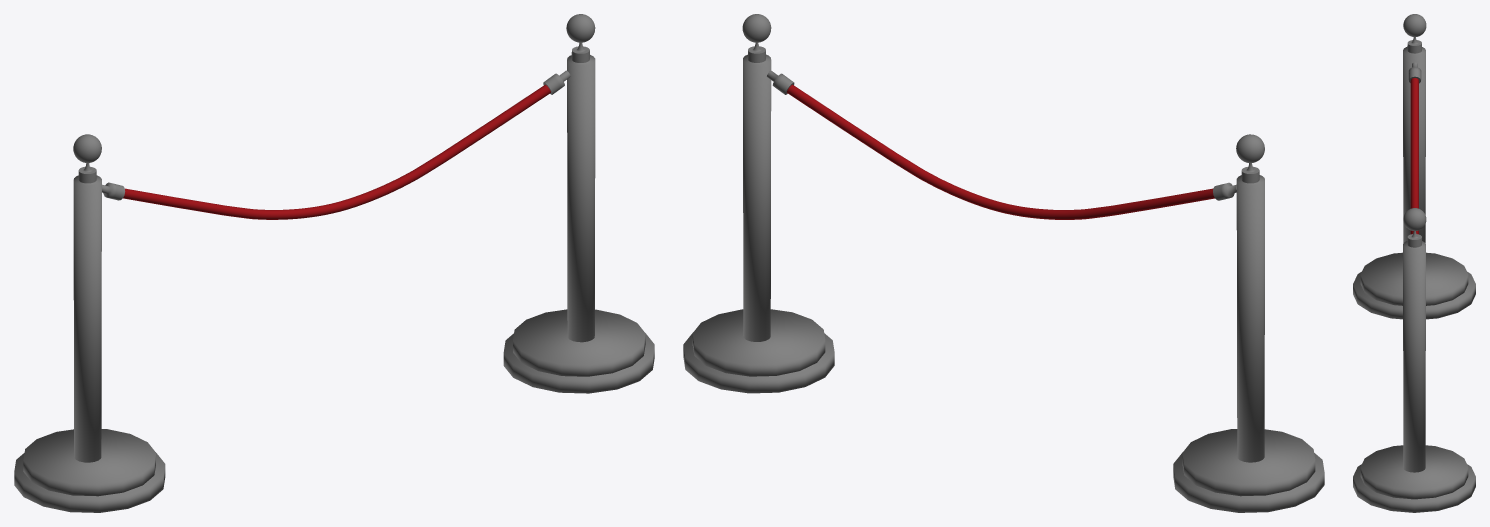
The model's file is museum_rope_barrier.fbx.
3 views of the same model, side by side, from view 1: azimuth 30°, elevation 25°; view 2: azimuth 150°, elevation 25°; view 3: azimuth 270°, elevation 25° (orthographic). The views are drawn at different scales.
Visible parts, largest first — view 1: rope_barrier; view 2: rope_barrier; view 3: rope_barrier.
Part boxes in pixels (box(x1,y1,x2,y2)): rope_barrier: box(14, 14, 654, 512); rope_barrier: box(683, 14, 1324, 512); rope_barrier: box(1353, 14, 1475, 512).
Size of the model in its own units: 2.59 by 1.38 by 0.5505.
